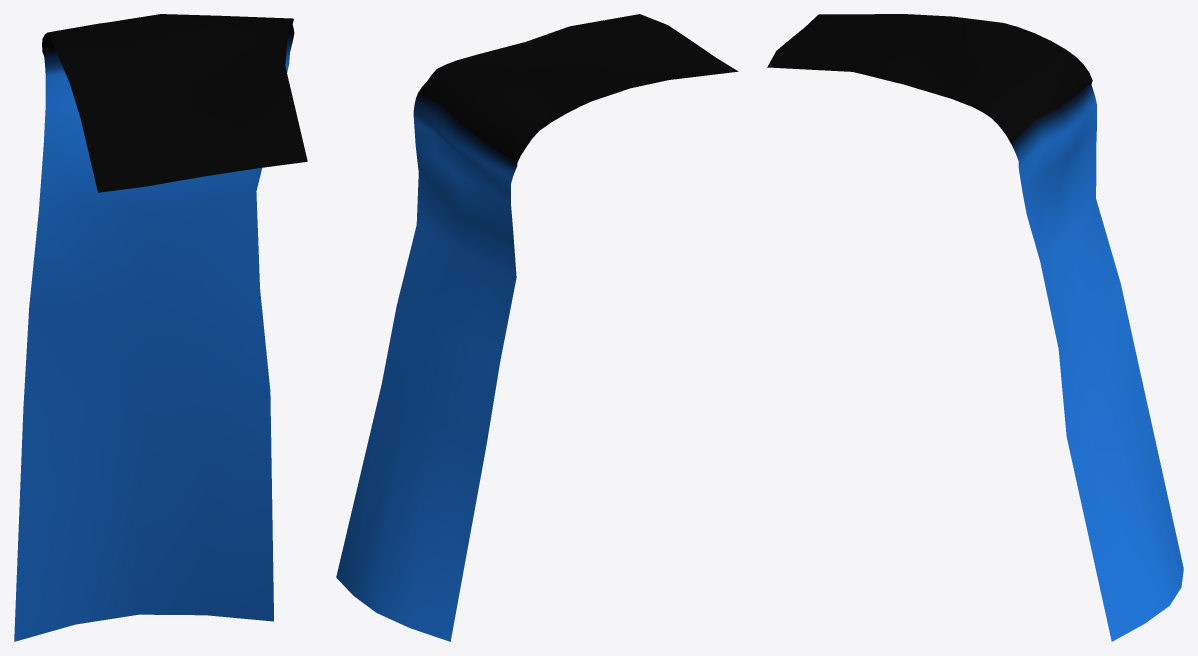
The model's file is SM_EastLands_DemoSceneWaterfall_01.fbx.
3 renders of one model, left to right at view 1: azimuth 30°, elevation 25°; view 2: azimuth 150°, elevation 25°; view 3: azimuth 270°, elevation 25°, orthographic. The views are drawn at different scales.
Visible parts, largest first — view 1: SM_FarEast_DemoSceneWaterfall_01; view 2: SM_FarEast_DemoSceneWaterfall_01; view 3: SM_FarEast_DemoSceneWaterfall_01.
Boxes of the visible parts, box(x1,y1,x2,y2) form: SM_FarEast_DemoSceneWaterfall_01: box(14, 14, 307, 641); SM_FarEast_DemoSceneWaterfall_01: box(336, 14, 738, 641); SM_FarEast_DemoSceneWaterfall_01: box(767, 14, 1183, 641).
Size of the model in its own units: 47.34 by 84.48 by 61.67.
